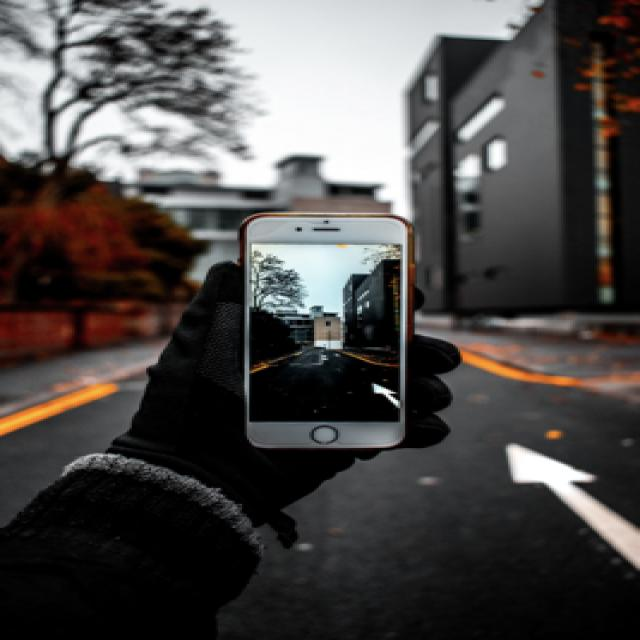cellphone: (238, 211, 412, 450)
